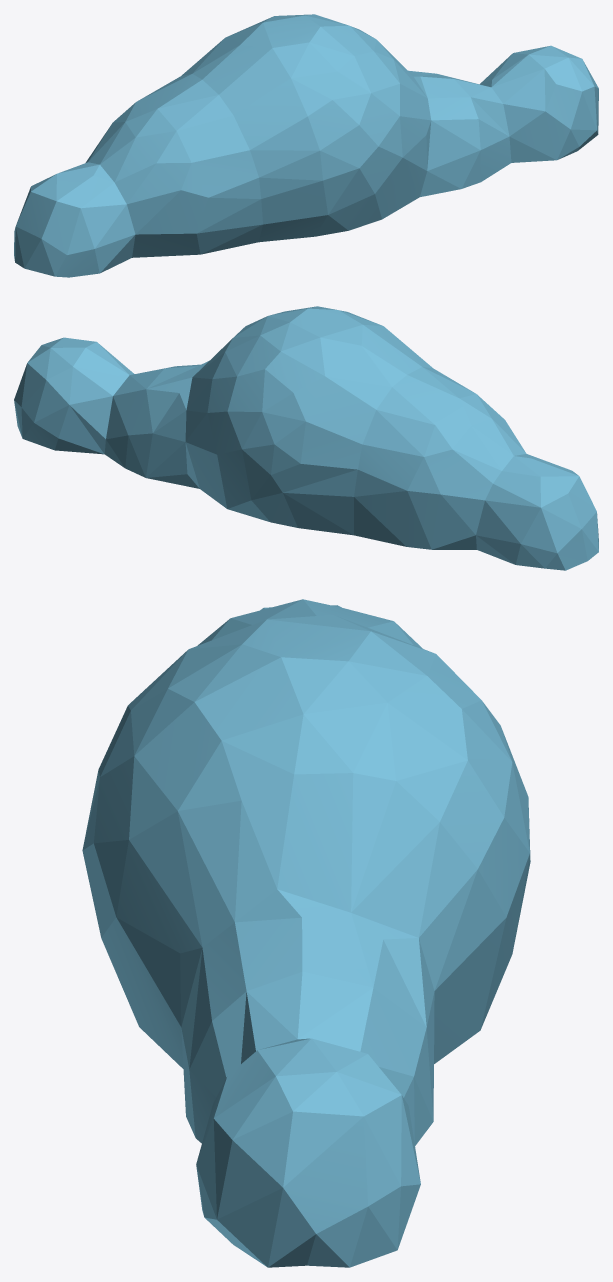
File: small_cloud_24.fbx
The picture shows the model from 3 angles, top to bottom: view 1: azimuth 30°, elevation 25°; view 2: azimuth 150°, elevation 25°; view 3: azimuth 270°, elevation 25°; orthographic projection. The views are drawn at different scales.
Visible parts, largest first — view 1: cloud_34; view 2: cloud_34; view 3: cloud_34.
Part boxes in pixels (x1,y1,x2,y2): cloud_34: (14,14,598,277); cloud_34: (14,306,598,570); cloud_34: (82,599,530,1267).
Size of the model in its own units: 761 by 227 by 258.
